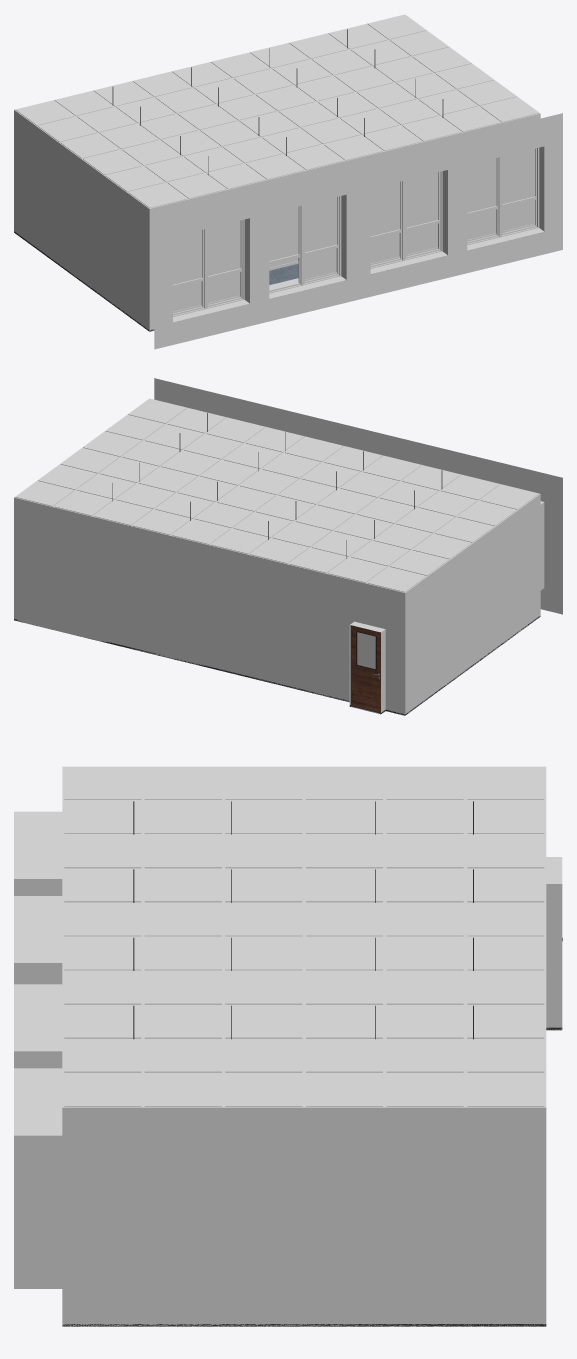
Rendered from classroom_new.fbx.
3 views of the same model, one above another, from view 1: azimuth 30°, elevation 25°; view 2: azimuth 150°, elevation 25°; view 3: azimuth 270°, elevation 25° (orthographic). The views are drawn at different scales.
Parts seen in each view (by area): view 1: roof, room_1, room, school_window, school_window.001, windowsill; view 2: room, roof, room_1, school_door, baseboard; view 3: roof, room, school_window, baseboard.
Boxes of the visible parts, x1=… form: roof: x1=14, y1=14, x2=540, y2=208; room_1: x1=154, y1=113, x2=562, y2=349; room: x1=14, y1=110, x2=544, y2=331; school_window: x1=173, y1=147, x2=539, y2=316; school_window.001: x1=269, y1=196, x2=341, y2=293; windowsill: x1=173, y1=228, x2=543, y2=322; room: x1=14, y1=494, x2=544, y2=715; roof: x1=14, y1=398, x2=539, y2=592; room_1: x1=154, y1=378, x2=562, y2=614; school_door: x1=351, y1=625, x2=380, y2=712; baseboard: x1=14, y1=616, x2=540, y2=715; roof: x1=62, y1=766, x2=546, y2=1107; room: x1=14, y1=811, x2=562, y2=1326; school_window: x1=32, y1=811, x2=40, y2=1288; baseboard: x1=62, y1=1027, x2=562, y2=1326.
Bounding box in the file's own units: 1045 × 360 × 681.
Materials: 12 (2 with a texture image).
